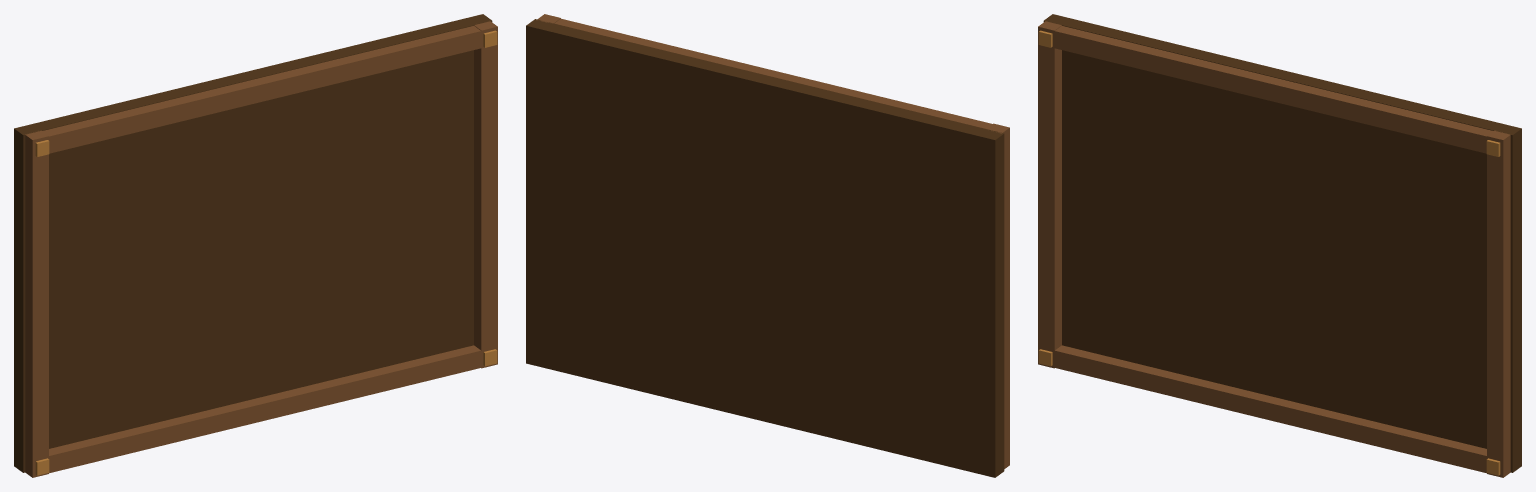
Rendered from mia-flag_tk.glb.
3 views of the same model, side by side, from view 1: azimuth 30°, elevation 25°; view 2: azimuth 150°, elevation 25°; view 3: azimuth 330°, elevation 25° (orthographic).
Parts seen in each view (by area): view 1: Body_wood, Body_oak, Body_brass; view 2: Body_wood, Body_oak; view 3: Body_wood, Body_oak, Body_brass.
Boxes of the visible parts, left/top/right/bottom form: Body_wood: left=14, top=14, right=492, bottom=472; Body_oak: left=25, top=21, right=497, bottom=477; Body_brass: left=35, top=30, right=497, bottom=475; Body_wood: left=526, top=19, right=1004, bottom=477; Body_oak: left=536, top=14, right=1009, bottom=468; Body_wood: left=1043, top=14, right=1521, bottom=472; Body_oak: left=1038, top=21, right=1510, bottom=477; Body_brass: left=1038, top=30, right=1500, bottom=475.
Size of the model in its own units: 0.968 by 0.666 by 0.0665.
